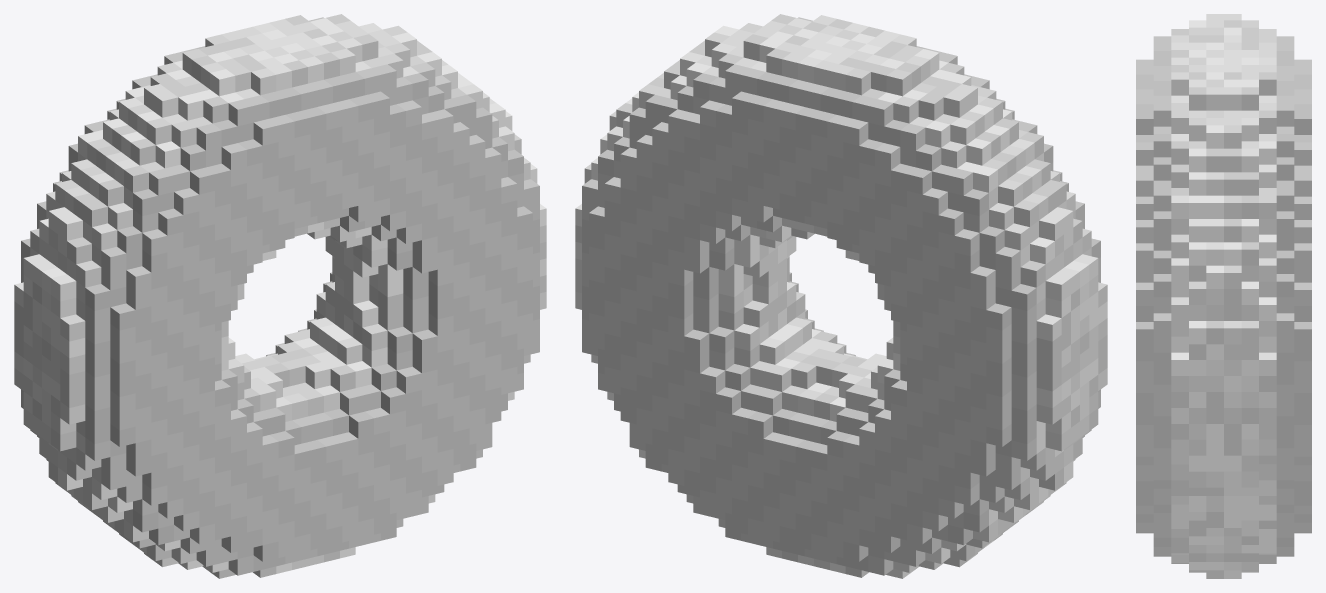
File: tire.fbx
3 renders of one model, left to right at view 1: azimuth 30°, elevation 25°; view 2: azimuth 150°, elevation 25°; view 3: azimuth 270°, elevation 25°, orthographic. The views are drawn at different scales.
Visible parts, largest first — view 1: Untitled; view 2: Untitled; view 3: Untitled.
Boxes of the visible parts, x1,y1,x2,y2 form: Untitled: (14, 14, 546, 578); Untitled: (575, 14, 1107, 578); Untitled: (1136, 14, 1311, 578).
Size of the model in its own units: 100 by 100 by 33.45.
1 material, 1 textured.
